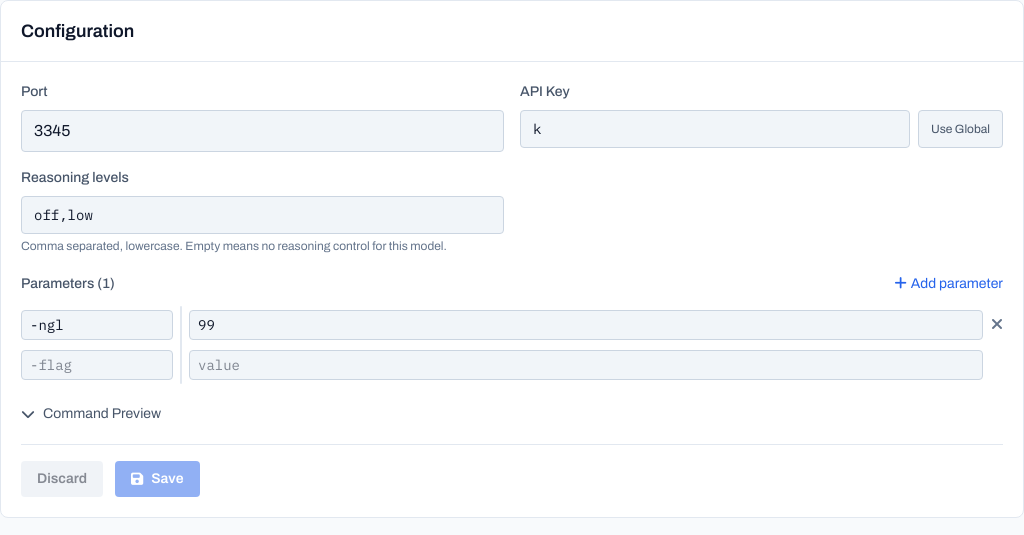
Test case: ServiceConfigPanel reasoning levels › treats an edit as a dirty change and Discard reverts it
Replace the text in the field labelled "Reasoning levels" with "off,low,xhigh" at (262, 215), box [21, 196, 504, 234]
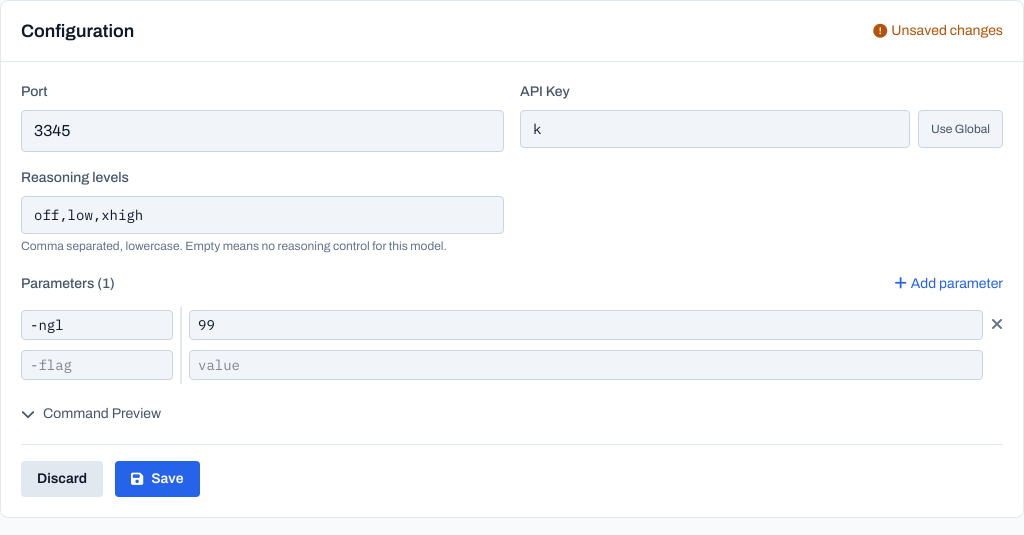
Expected: the text "Unsaved changes" is shown, [873, 21, 1003, 41]
Click the button "Discard" at (62, 479), box [21, 461, 103, 497]
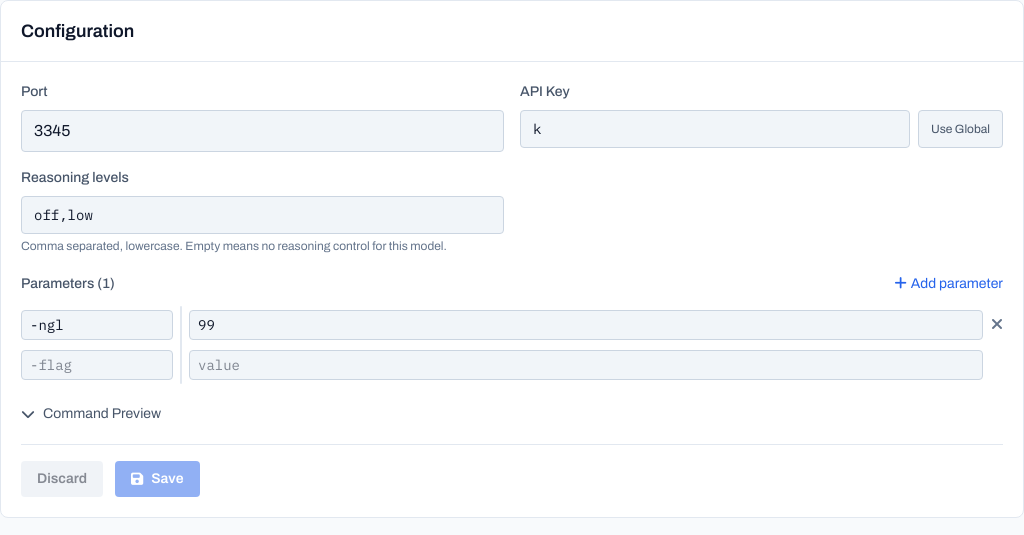
Expected: the field labelled "Reasoning levels" holds "off,low", [21, 196, 504, 234]
